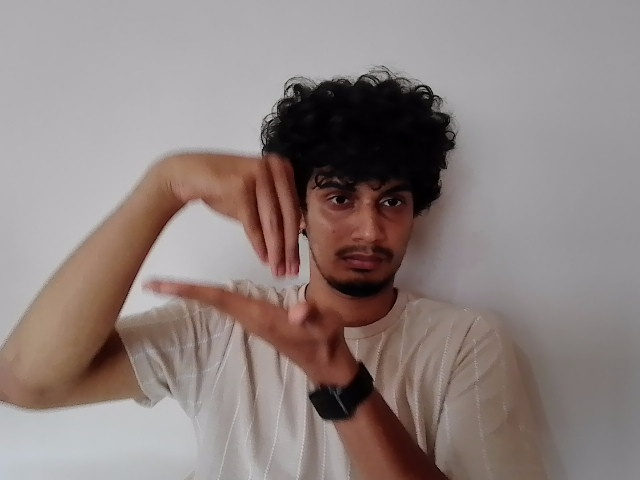learn: (146, 152, 347, 362)
